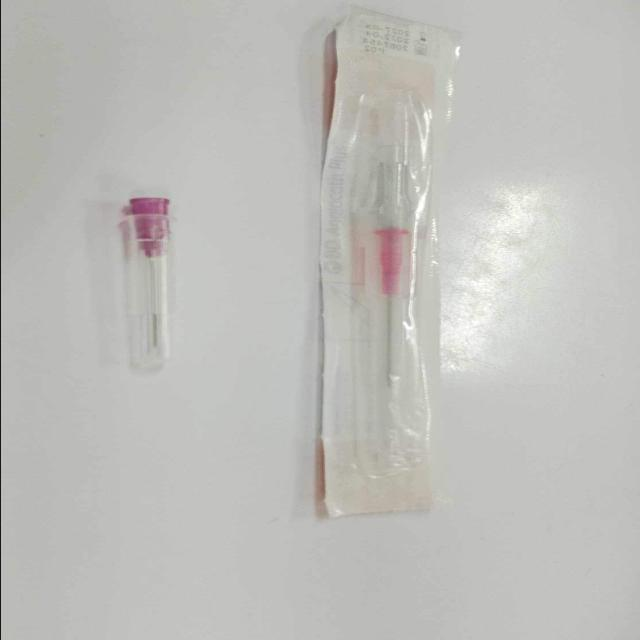Infectious: (316, 6, 463, 518)
Sharps: (121, 197, 173, 371)
